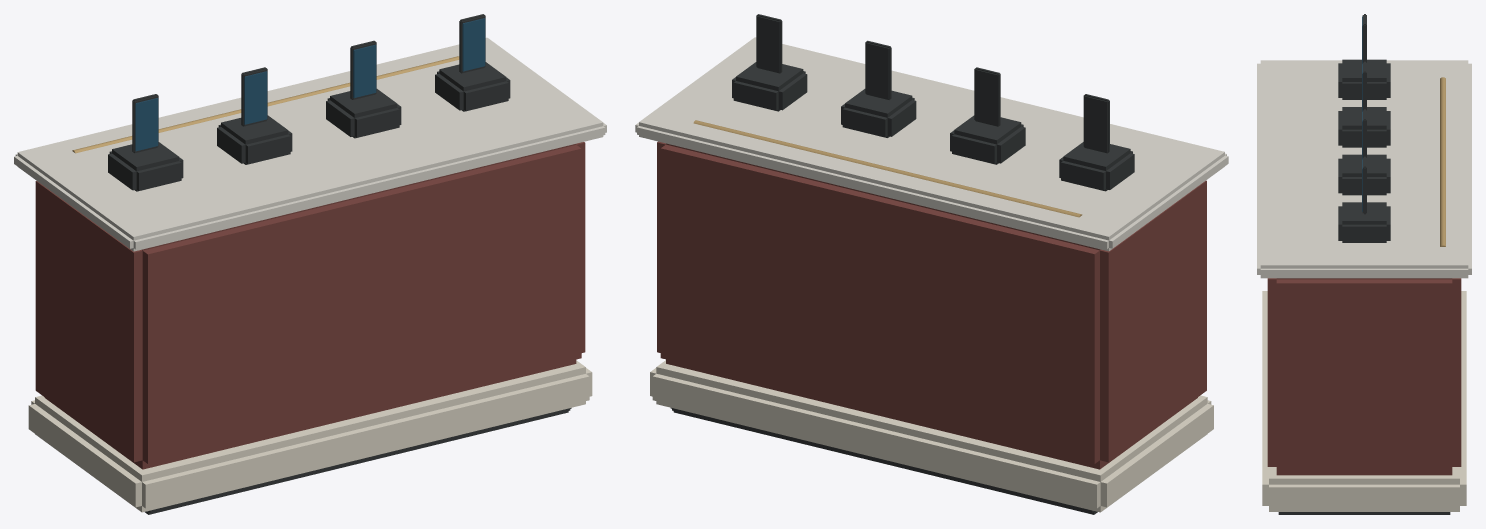
The model's file is collection_v29_mobile_1.glb.
The picture shows the model from 3 angles, left to right: view 1: azimuth 30°, elevation 25°; view 2: azimuth 150°, elevation 25°; view 3: azimuth 270°, elevation 25°; orthographic projection. The views are drawn at different scales.
Parts seen in each view (by area): view 1: collection_v29_mobile_1_V29_oxblood_lacquer, collection_v29_mobile_1_Honed_solid_surface, collection_v29_mobile_1_V29_ivory_lacquer, collection_v29_mobile_1_Anodised_graphite, collection_v29_mobile_1_Satin_champagne, collection_v29_mobile_1_FY21_display_screen.007, collection_v29_mobile_1_FY21_display_screen.005, collection_v29_mobile_1_FY21_display_screen.004, collection_v29_mobile_1_FY21_display_screen.006; view 2: collection_v29_mobile_1_V29_oxblood_lacquer, collection_v29_mobile_1_Honed_solid_surface, collection_v29_mobile_1_V29_ivory_lacquer, collection_v29_mobile_1_Anodised_graphite, collection_v29_mobile_1_Satin_champagne, collection_v29_mobile_1_Anodised_graphite.018, collection_v29_mobile_1_Anodised_graphite.020, collection_v29_mobile_1_Anodised_graphite.021, collection_v29_mobile_1_Anodised_graphite.019; view 3: collection_v29_mobile_1_V29_oxblood_lacquer, collection_v29_mobile_1_Honed_solid_surface, collection_v29_mobile_1_V29_ivory_lacquer, collection_v29_mobile_1_Anodised_graphite, collection_v29_mobile_1_Satin_champagne, collection_v29_mobile_1_Anodised_graphite.021.
Boxes of the visible parts, <box> form: collection_v29_mobile_1_V29_oxblood_lacquer: <box>35,142,585,469</box>; collection_v29_mobile_1_Honed_solid_surface: <box>14,37,606,251</box>; collection_v29_mobile_1_V29_ivory_lacquer: <box>28,360,592,512</box>; collection_v29_mobile_1_Anodised_graphite: <box>108,62,571,514</box>; collection_v29_mobile_1_Satin_champagne: <box>72,56,459,153</box>; collection_v29_mobile_1_FY21_display_screen.007: <box>462,18,485,71</box>; collection_v29_mobile_1_FY21_display_screen.005: <box>244,71,267,124</box>; collection_v29_mobile_1_FY21_display_screen.004: <box>135,98,158,151</box>; collection_v29_mobile_1_FY21_display_screen.006: <box>353,44,376,97</box>; collection_v29_mobile_1_V29_oxblood_lacquer: <box>657,141,1206,469</box>; collection_v29_mobile_1_Honed_solid_surface: <box>635,37,1228,251</box>; collection_v29_mobile_1_V29_ivory_lacquer: <box>650,360,1213,512</box>; collection_v29_mobile_1_Anodised_graphite: <box>670,62,1134,514</box>; collection_v29_mobile_1_Satin_champagne: <box>693,120,1082,217</box>; collection_v29_mobile_1_Anodised_graphite.018: <box>1083,94,1109,153</box>; collection_v29_mobile_1_Anodised_graphite.020: <box>865,40,891,99</box>; collection_v29_mobile_1_Anodised_graphite.021: <box>756,14,782,73</box>; collection_v29_mobile_1_Anodised_graphite.019: <box>974,67,1000,126</box>; collection_v29_mobile_1_V29_oxblood_lacquer: <box>1267,278,1461,475</box>; collection_v29_mobile_1_Honed_solid_surface: <box>1257,60,1471,278</box>; collection_v29_mobile_1_V29_ivory_lacquer: <box>1262,291,1466,511</box>; collection_v29_mobile_1_Anodised_graphite: <box>1278,59,1450,514</box>; collection_v29_mobile_1_Satin_champagne: <box>1440,77,1445,246</box>; collection_v29_mobile_1_Anodised_graphite.021: <box>1362,156,1366,214</box>.
Size of the model in its own units: 1.88 by 1.4 by 0.82.
